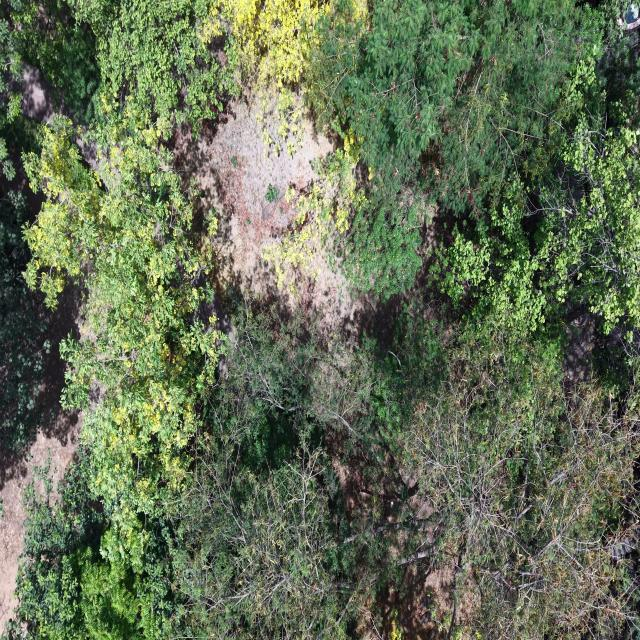DRY_AREA: (174, 101, 398, 337), (175, 103, 394, 341), (174, 102, 384, 333), (174, 102, 379, 334), (175, 103, 381, 333), (174, 101, 370, 332), (174, 102, 363, 333), (176, 103, 354, 330), (175, 103, 353, 327), (175, 102, 332, 295), (332, 450, 481, 639), (0, 288, 81, 633), (0, 291, 80, 633), (182, 102, 333, 235), (0, 415, 80, 631), (380, 558, 480, 639), (12, 64, 69, 122), (16, 65, 64, 122), (563, 308, 596, 383)
VEGETATION_TREE: (0, 0, 639, 639), (25, 108, 219, 591), (309, 0, 612, 293), (402, 321, 638, 638), (309, 0, 608, 214), (435, 58, 638, 333), (6, 0, 236, 138), (6, 449, 171, 639), (73, 0, 235, 138), (210, 0, 330, 154), (0, 115, 52, 463), (0, 190, 50, 454), (4, 0, 100, 123)
